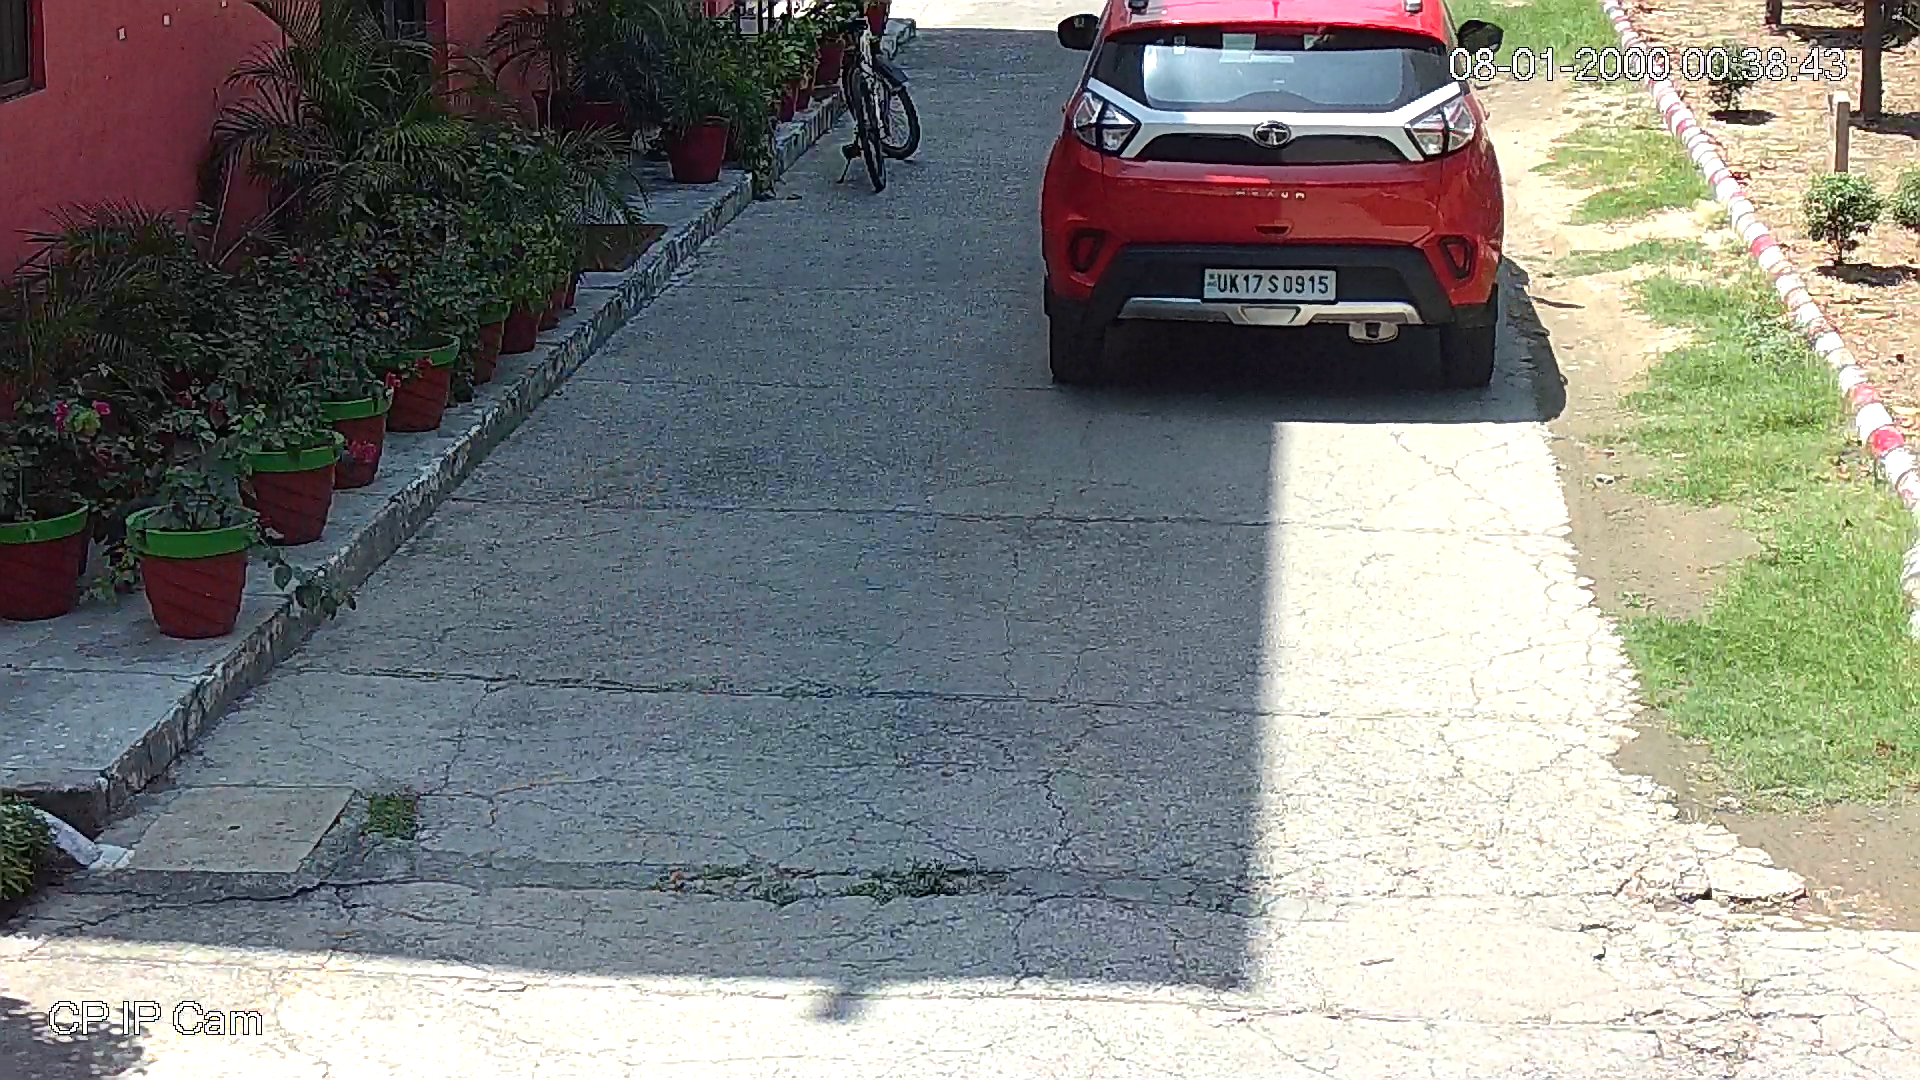plate: (1200, 263, 1336, 302)
